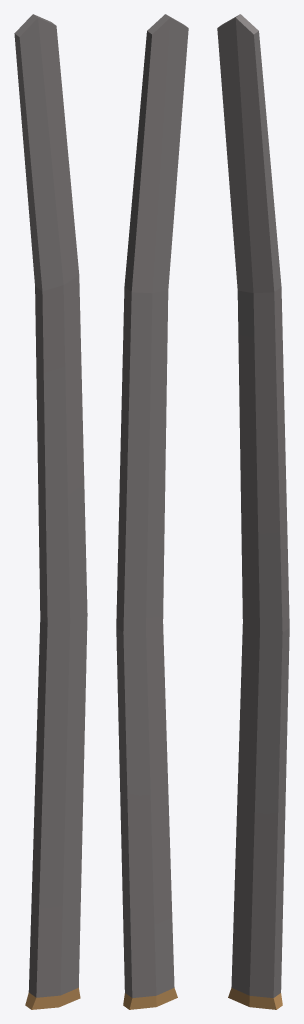
File: sword-cavalry-scabbard.glb
The picture shows the model from 3 angles, left to right: view 1: azimuth 30°, elevation 25°; view 2: azimuth 210°, elevation 25°; view 3: azimuth 330°, elevation 25°; orthographic projection.
Visible parts, largest first — view 1: sword-cavalry-scabbard; view 2: sword-cavalry-scabbard; view 3: sword-cavalry-scabbard.
Part boxes in pixels (left/top/right/bottom): sword-cavalry-scabbard: left=14, top=14, right=87, bottom=1009; sword-cavalry-scabbard: left=116, top=14, right=188, bottom=1009; sword-cavalry-scabbard: left=217, top=14, right=289, bottom=1009.
Size of the model in its own units: 0.0674 by 0.954 by 0.0235.
Materials: 1 (1 with a texture image).
